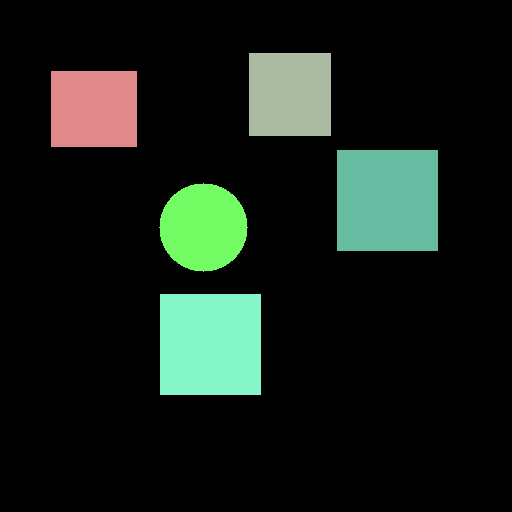circle: (159, 183, 247, 271)
rectangle: (51, 71, 136, 146)
square: (160, 294, 260, 394), (337, 150, 437, 250), (249, 53, 330, 135)
